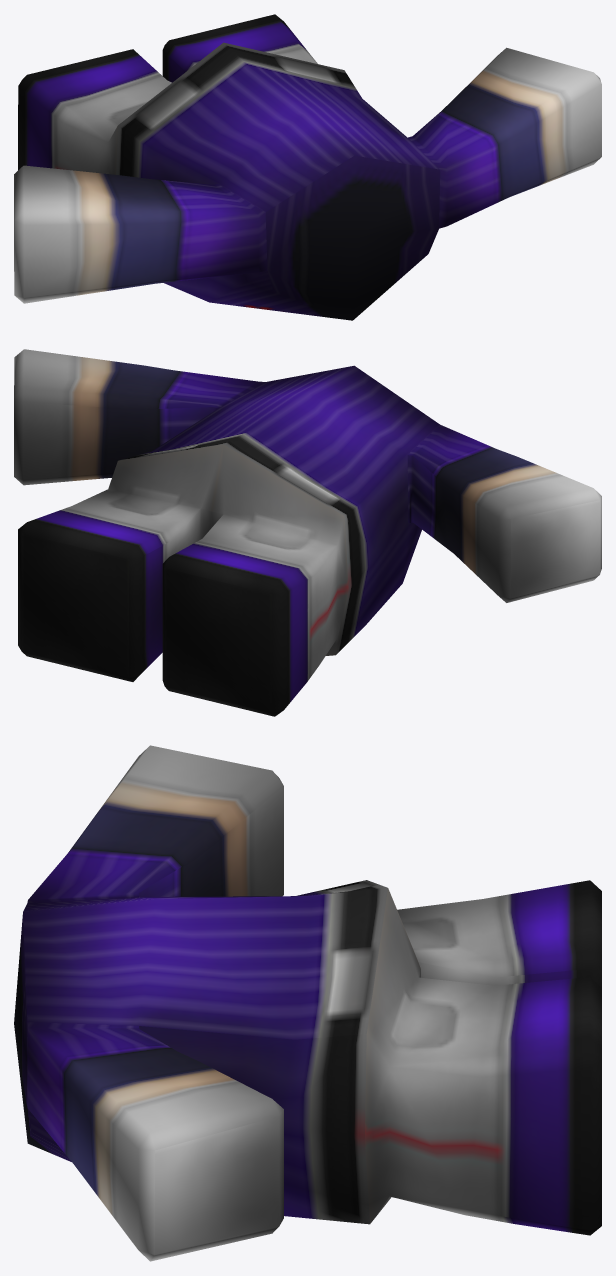
The model's file is Avatar_Mike_H_Body_1_081bb658__Avatar_Mike_B_022b1c9b_c1f257.obj.
The picture shows the model from 3 angles, top to bottom: view 1: azimuth 30°, elevation 25°; view 2: azimuth 150°, elevation 25°; view 3: azimuth 270°, elevation 25°; orthographic projection. The views are drawn at different scales.
Bounding box in the file's own units: 1.41 × 0.504 × 0.882.
Materials: 1 (1 with a texture image).
